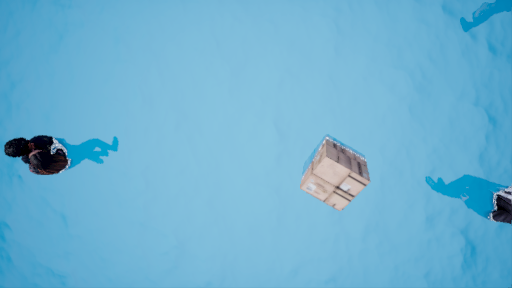person: (7, 131, 125, 178)
